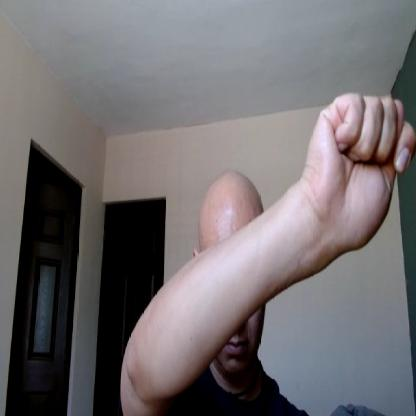T: (302, 87, 415, 254)
